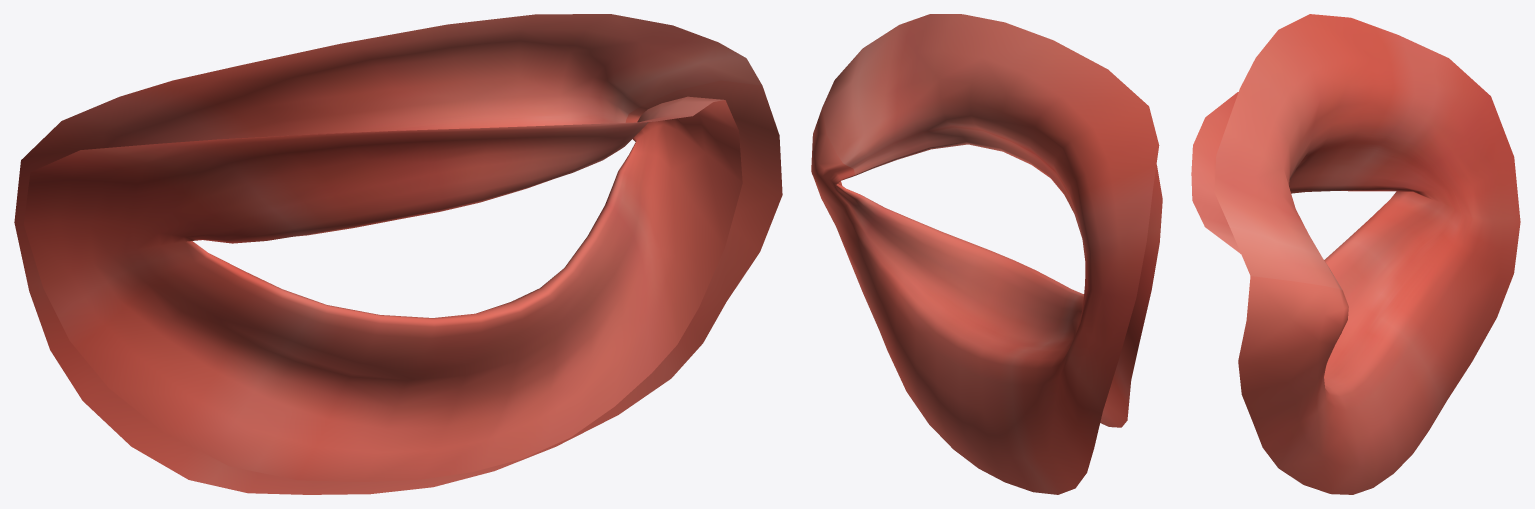
The model's file is Orbicularis_Oculi_Palpebral_Muscle_Right.obj.
3 renders of one model, left to right at view 1: azimuth 30°, elevation 25°; view 2: azimuth 150°, elevation 25°; view 3: azimuth 270°, elevation 25°, orthographic. The views are drawn at different scales.
Parts seen in each view (by area): view 1: Orbicularis_Oculi_Muscle_Right:Orbicularis_Oculi_Muscle_Right_Me; view 2: Orbicularis_Oculi_Muscle_Right:Orbicularis_Oculi_Muscle_Right_Me; view 3: Orbicularis_Oculi_Muscle_Right:Orbicularis_Oculi_Muscle_Right_Me.
Boxes of the visible parts, left/top/right/bottom form: Orbicularis_Oculi_Muscle_Right:Orbicularis_Oculi_Muscle_Right_Me: left=14, top=14, right=782, bottom=494; Orbicularis_Oculi_Muscle_Right:Orbicularis_Oculi_Muscle_Right_Me: left=811, top=14, right=1162, bottom=494; Orbicularis_Oculi_Muscle_Right:Orbicularis_Oculi_Muscle_Right_Me: left=1191, top=14, right=1520, bottom=494.
Bounding box in the file's own units: 0.5438 × 0.4646 × 0.3378.
